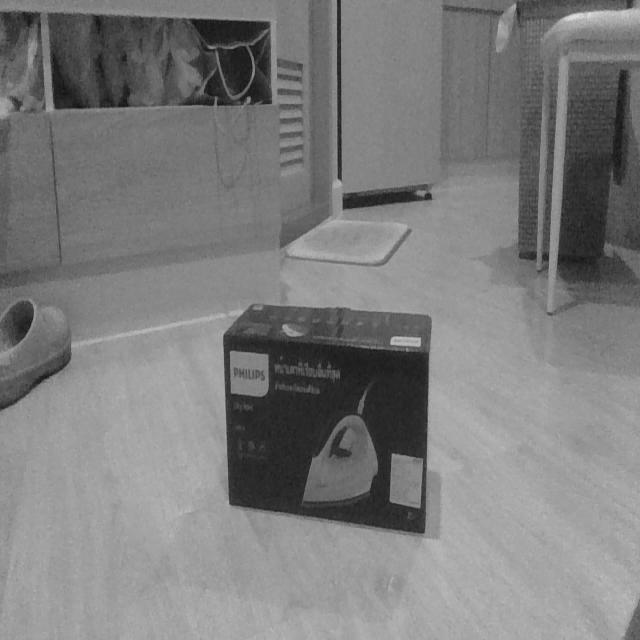IRON: (220, 298, 434, 538)
